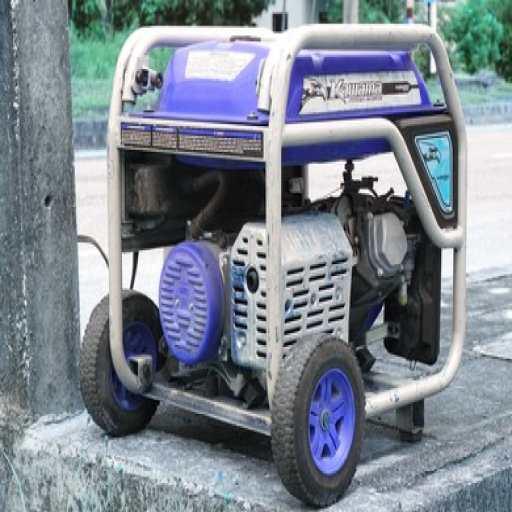portable_generator: (108, 23, 468, 437)
